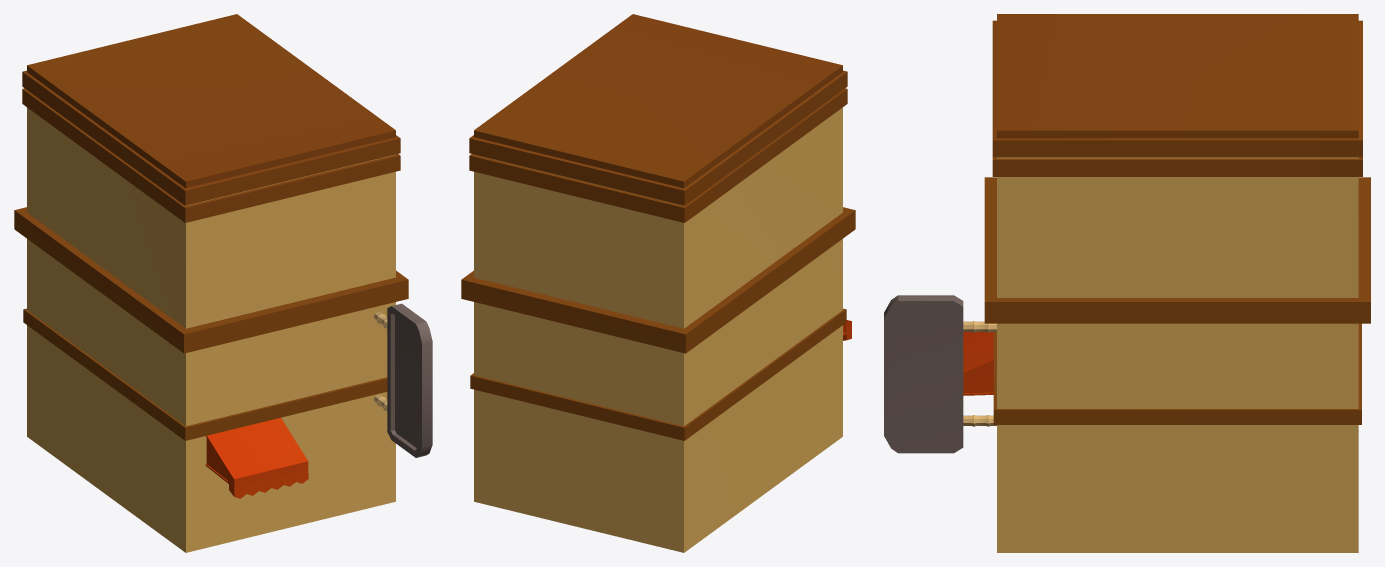
File: Hotel_2.fbx
The picture shows the model from 3 angles, left to right: view 1: azimuth 30°, elevation 25°; view 2: azimuth 150°, elevation 25°; view 3: azimuth 270°, elevation 25°; orthographic projection. The views are drawn at different scales.
Visible parts, largest first — view 1: Predio, PlacaHotel, Marquise; view 2: Predio; view 3: Predio, PlacaHotel, Marquise.
Part boxes in pixels (x1=…): Predio: x1=14, y1=14, x2=408, y2=552; PlacaHotel: x1=373, y1=303, x2=432, y2=457; Marquise: x1=205, y1=417, x2=308, y2=498; Predio: x1=461, y1=14, x2=855, y2=552; Predio: x1=984, y1=14, x2=1370, y2=552; PlacaHotel: x1=884, y1=295, x2=996, y2=453; Marquise: x1=963, y1=332, x2=993, y2=395.
Size of the model in its own units: 351 by 554 by 579.
